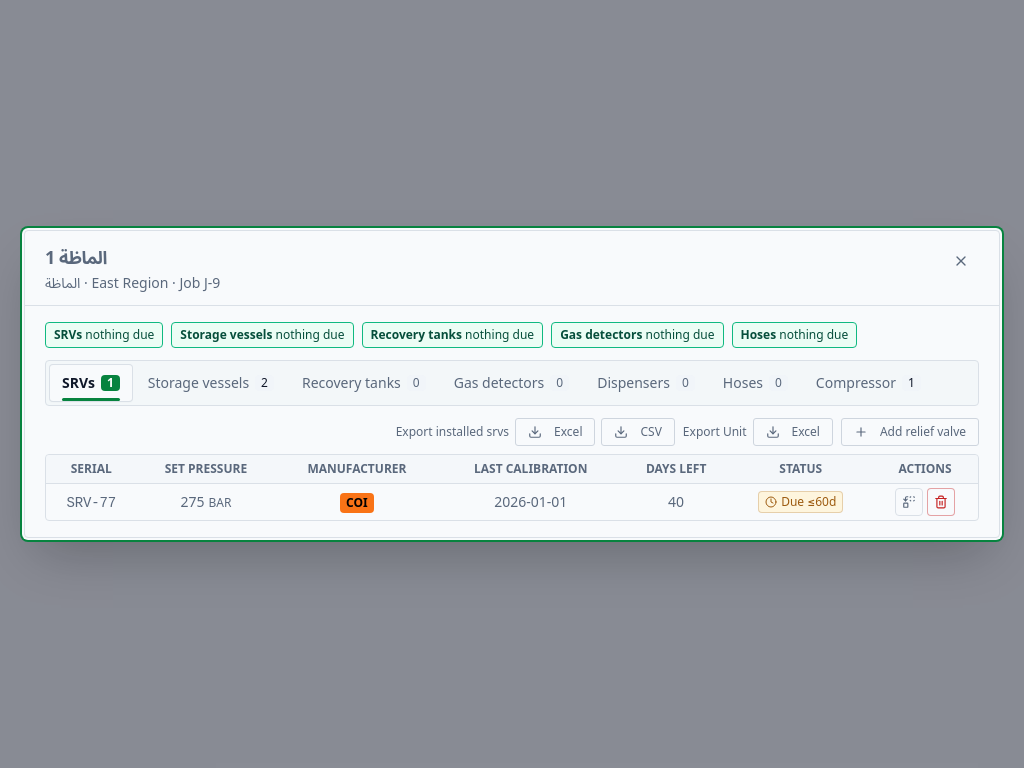
Test: Region → Station → Unit popup (owner request 2026-09-28) › owner request 2026-10-05: an admin deletes (archives) a valve from the Unit window, and its details are the Installed SRVs panel
This screenshot has width=1024, height=768.
What coordinates should you click on to do the following:
click the button named "Delete valve SRV-77"
I would click on:
 (941, 502)
Its box is [927,488,955,516].
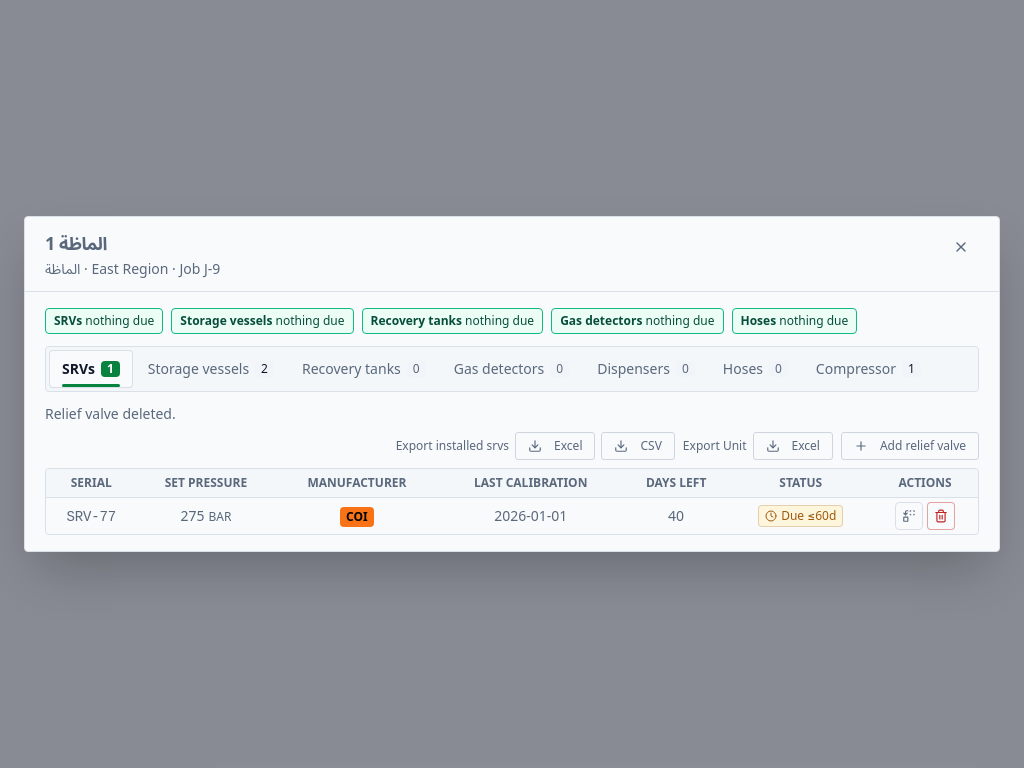
Check: the text "Relief valve deleted." is shown, box [45,404,176,423]
What coordinates should you click on to do the following:
click the text "SRV-77"
I would click on:
 (91, 516)
Its box is [66,508,116,524].
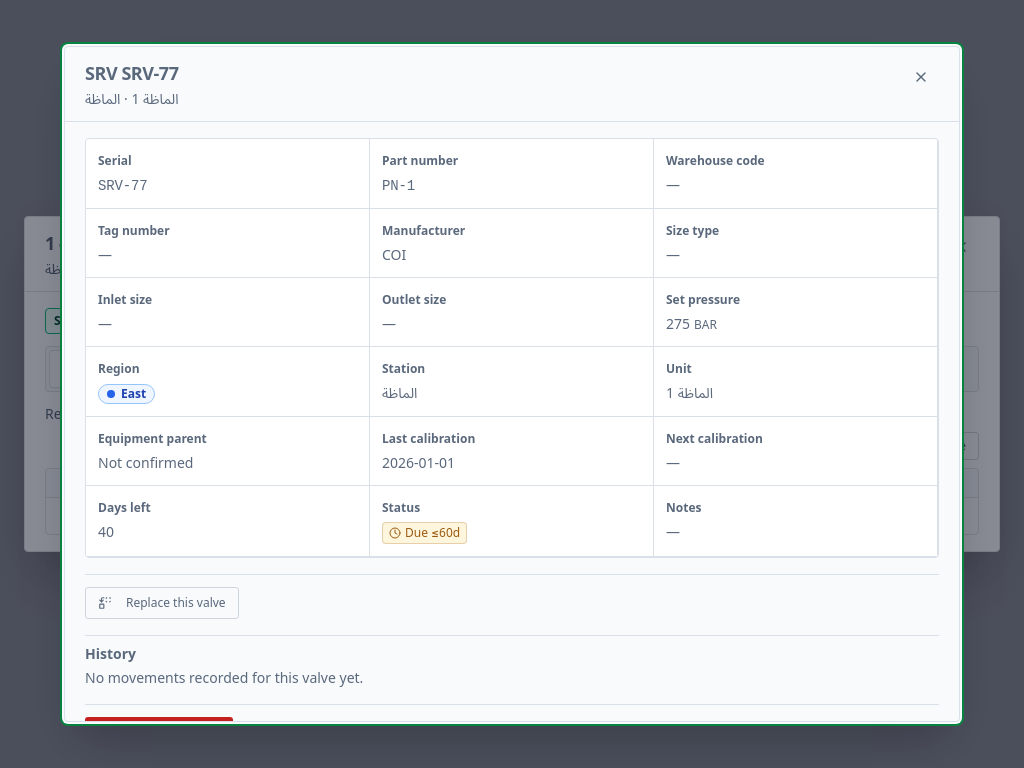
Check: the text "Warehouse code" is shown, box [666,152,765,169]
Check: the text "Station" is shown, box [382,360,425,377]
